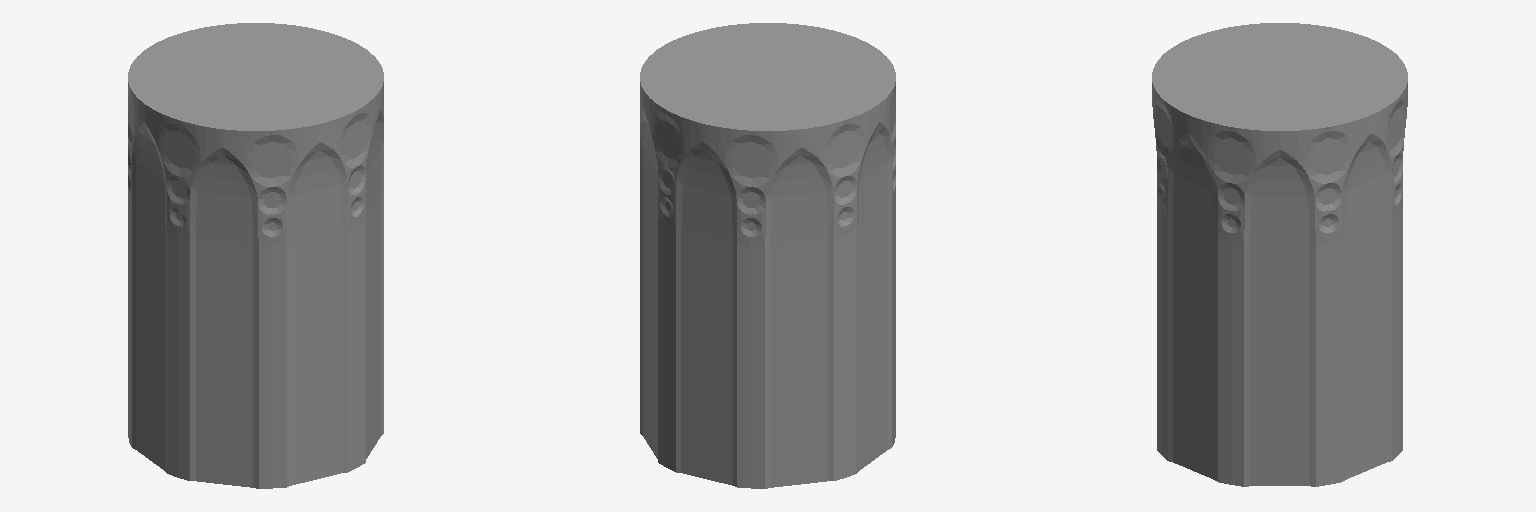
File: station_of_awakening.obj
3 views of the same model, side by side, from view 1: azimuth 30°, elevation 25°; view 2: azimuth 150°, elevation 25°; view 3: azimuth 270°, elevation 25° (orthographic).
Parts seen in each view (by area): view 1: glass, platform; view 2: glass, platform; view 3: glass, platform.
Part boxes in pixels (bbox=[...]): glass: bbox=[128, 23, 383, 487]; platform: bbox=[128, 82, 383, 488]; glass: bbox=[640, 23, 895, 487]; platform: bbox=[640, 82, 895, 488]; glass: bbox=[1152, 23, 1407, 485]; platform: bbox=[1152, 82, 1407, 486].
Size of the model in its own units: 16 by 24.62 by 16.